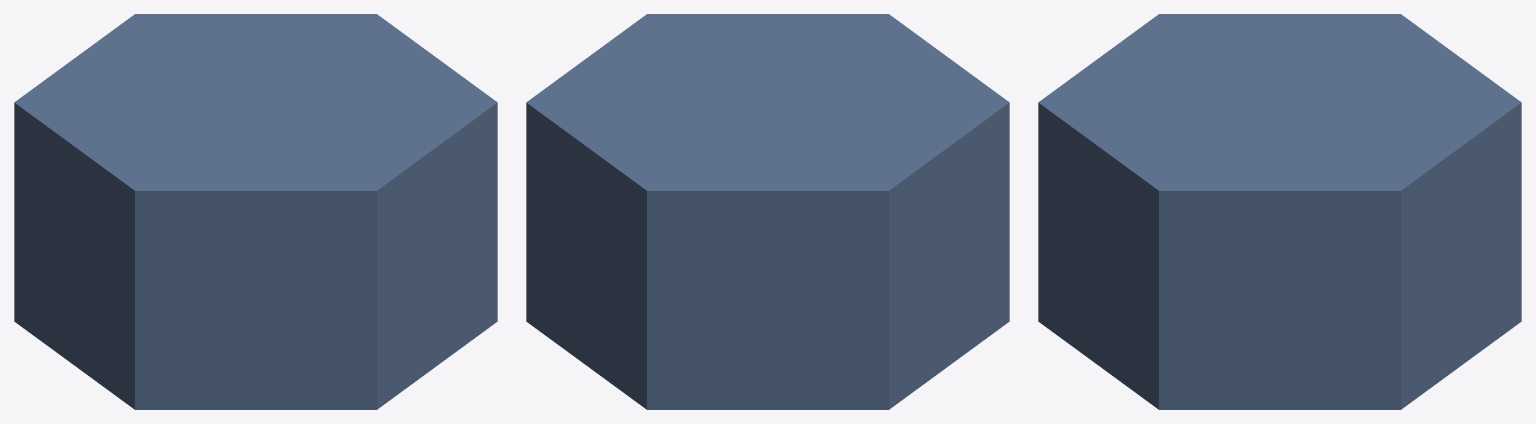
Rendered from WaterTile.fbx.
3 renders of one model, left to right at view 1: azimuth 30°, elevation 25°; view 2: azimuth 150°, elevation 25°; view 3: azimuth 270°, elevation 25°, orthographic.
Visible parts, largest first — view 1: Cylinder; view 2: Cylinder; view 3: Cylinder.
Part boxes in pixels (x1=…): Cylinder: x1=14, y1=14, x2=497, y2=409; Cylinder: x1=526, y1=14, x2=1009, y2=409; Cylinder: x1=1038, y1=14, x2=1521, y2=409.
Bounding box in the file's own units: 173 × 100 × 200.
